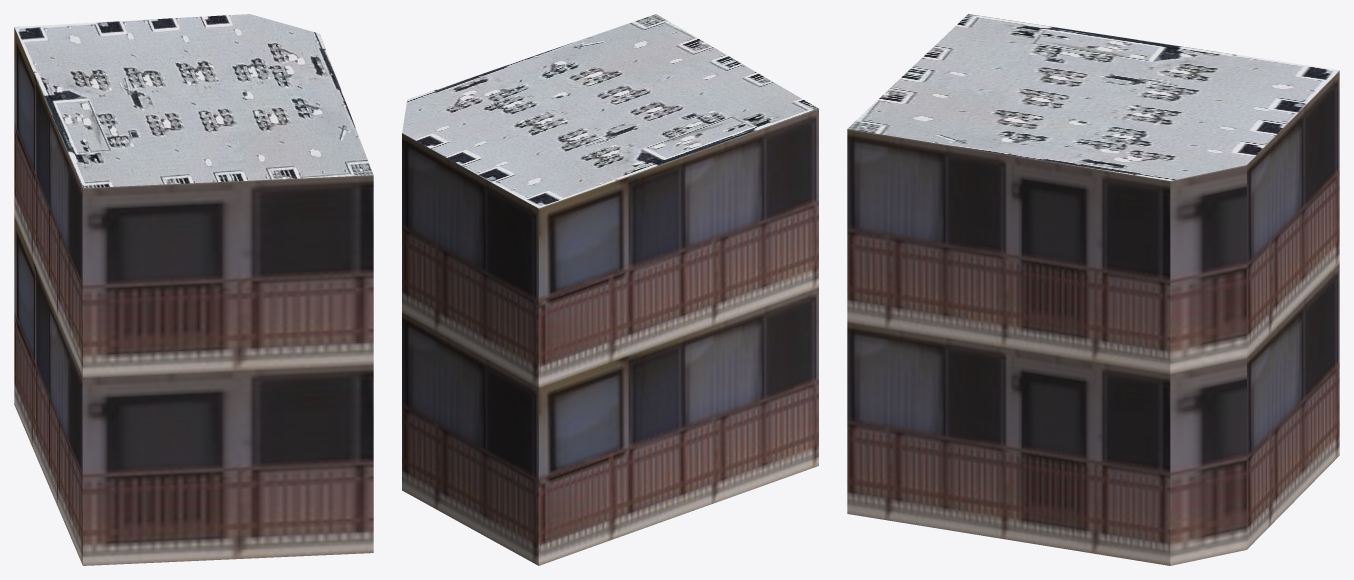
Rendered from ResTex__4645.fbx.
3 renders of one model, left to right at view 1: azimuth 30°, elevation 25°; view 2: azimuth 150°, elevation 25°; view 3: azimuth 270°, elevation 25°, orthographic. The views are drawn at different scales.
Parts seen in each view (by area): view 1: CityEngineMaterial_6_m, CityEngineMaterial_4_m; view 2: CityEngineMaterial_6_m, CityEngineMaterial_4_m; view 3: CityEngineMaterial_6_m, CityEngineMaterial_4_m.
Part boxes in pixels (<box>): CityEngineMaterial_6_m: <box>14,27,373,565</box>; CityEngineMaterial_4_m: <box>14,14,373,187</box>; CityEngineMaterial_6_m: <box>402,108,818,565</box>; CityEngineMaterial_4_m: <box>402,14,818,208</box>; CityEngineMaterial_6_m: <box>847,71,1339,565</box>; CityEngineMaterial_4_m: <box>847,14,1339,180</box>.
Size of the model in its own units: 5.58 by 6 by 6.96.
2 materials, 2 textured.
